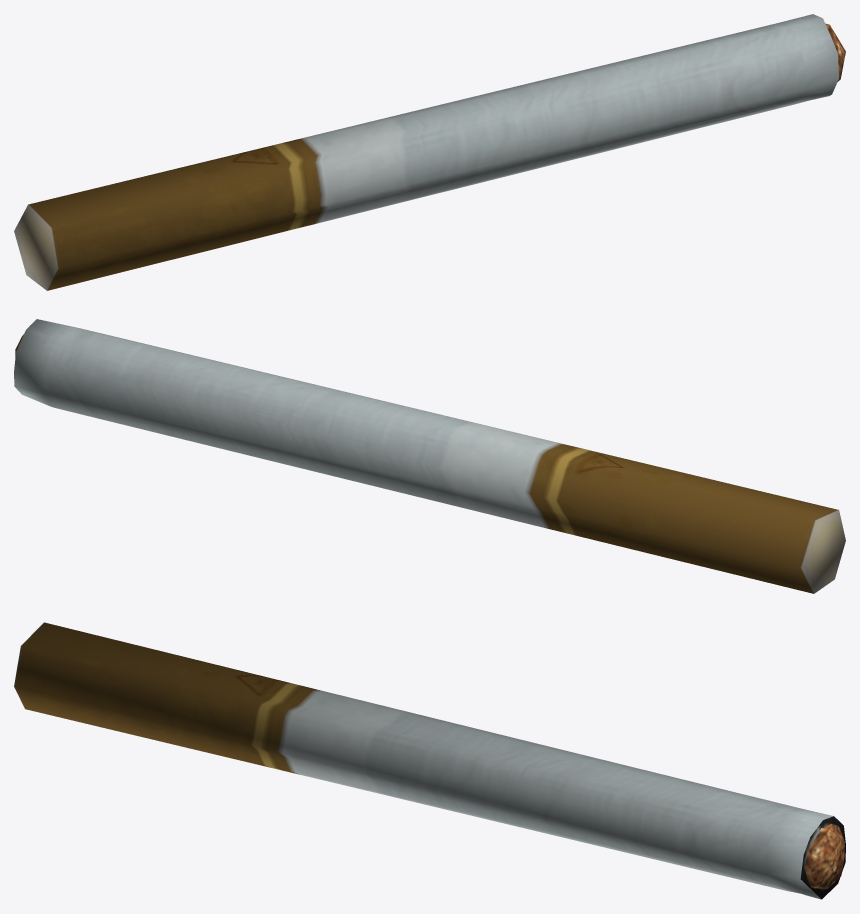
File: MSCigarette.fbx
3 renders of one model, top to bottom at view 1: azimuth 30°, elevation 25°; view 2: azimuth 150°, elevation 25°; view 3: azimuth 330°, elevation 25°, orthographic.
Visible parts, largest first — view 1: ember; view 2: ember; view 3: ember.
Boxes of the visible parts, x1=… form: ember: x1=14, y1=14, x2=845, y2=290; ember: x1=14, y1=319, x2=845, y2=593; ember: x1=14, y1=622, x2=845, y2=899.
Size of the model in its own units: 0.1066 by 0.00975 by 0.0102.
